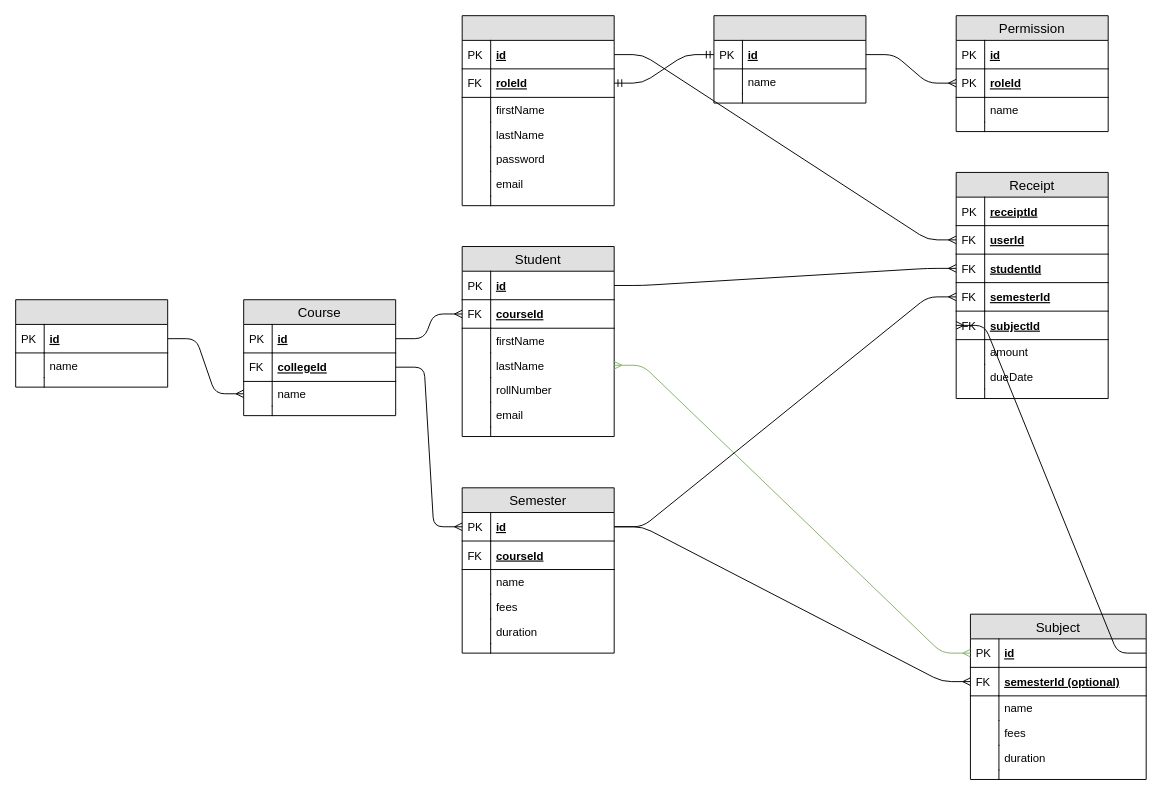
Some shapes in this 1162 by 795 pixel diagram are drawn without their labels. Each missing label, with the box of its shape:
College: (15, 299, 168, 387)
Role: (713, 15, 866, 103)
User: (461, 15, 614, 206)
